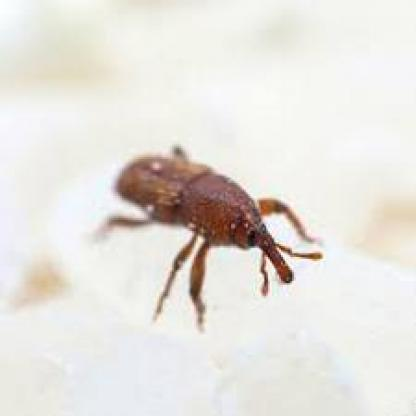rice-bug: (105, 150, 296, 310)
